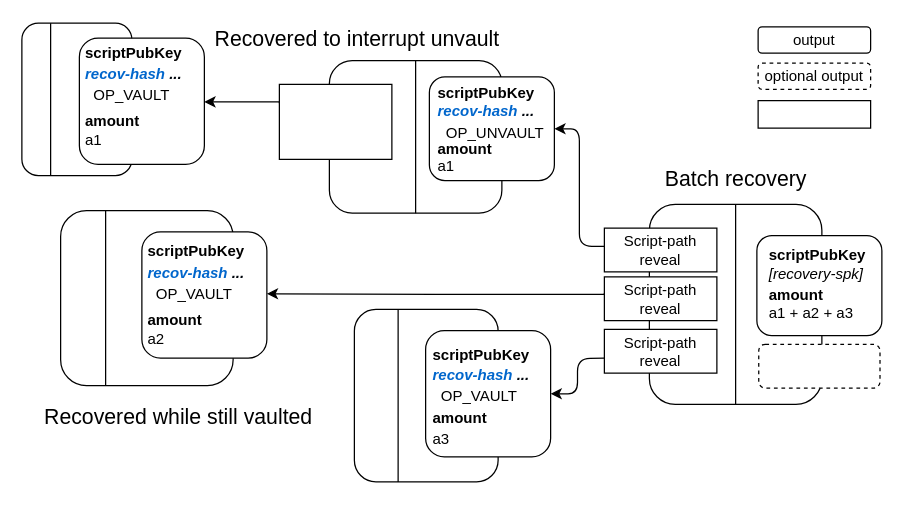
This 914x505 diagram has some shape labels left out. The shapes that lost their labels are listed below. From the top down, each one's centre as x and y in pixels, then its label:
At pixel 335 121: "witness [ trigger-key signature]".
At pixel 814 113: "input".
At pixel 819 365: "Ephemeral anchor".
